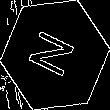N_SE: (27, 26, 83, 84)
